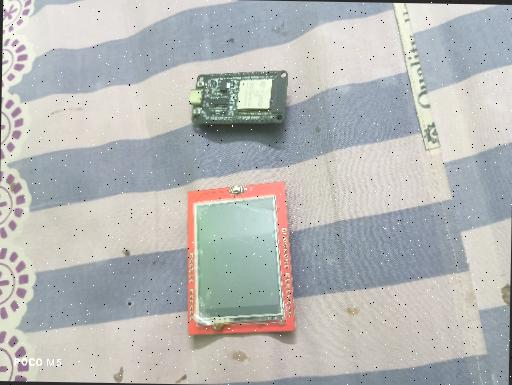Display: (184, 178, 300, 338)
Esp32: (186, 67, 290, 127)
